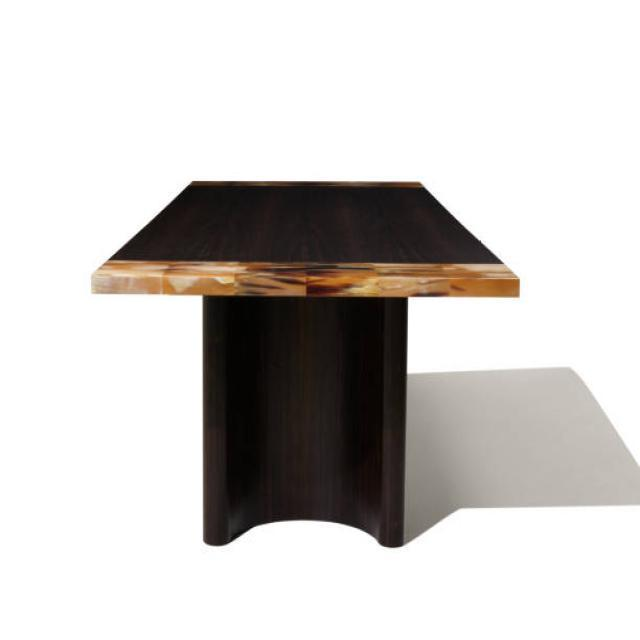table: (90, 177, 521, 548)
